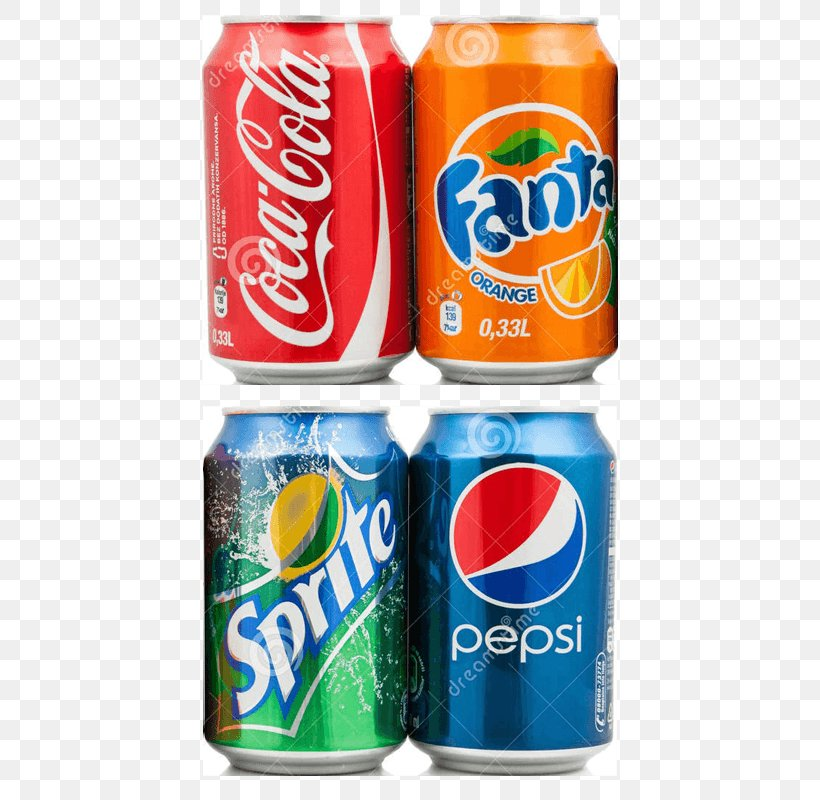Coca-Cola: (205, 16, 409, 374)
Fanta: (416, 16, 620, 375)
Pepsi: (410, 392, 613, 751)
Sprite: (197, 398, 400, 756)
